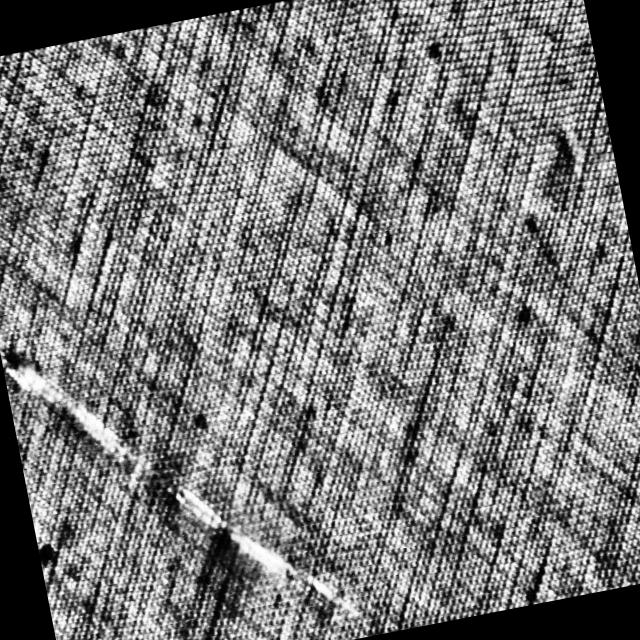gray stitch: (0, 279, 372, 640)
